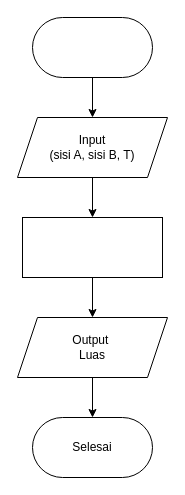
This 185x495 diagram has some shape labels left out. The shapes that lost their labels are listed below. From the top down, each one's centre as x and y in pixels, then its label:
the point at 92,47: Mulai
the point at 92,247: Luas = (A + B) * T / 2
